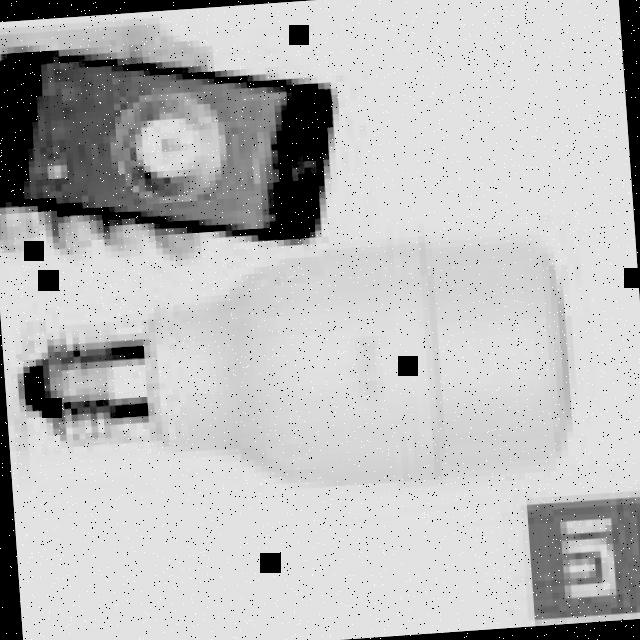light_bulb: (4, 222, 594, 536)
